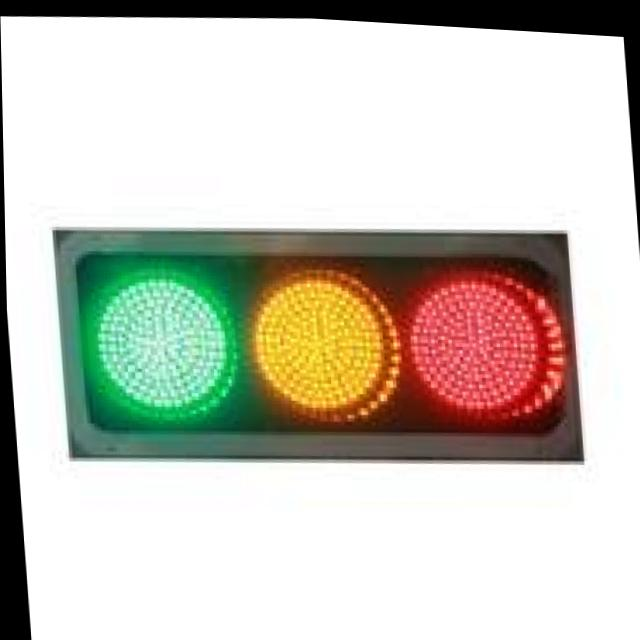green_light: (81, 169, 274, 481)
red_light: (385, 216, 590, 482)
yellow_light: (242, 205, 407, 483)
